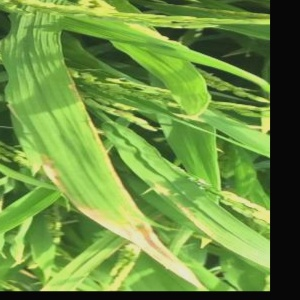Leaf_Blast: (22, 13, 125, 242)
